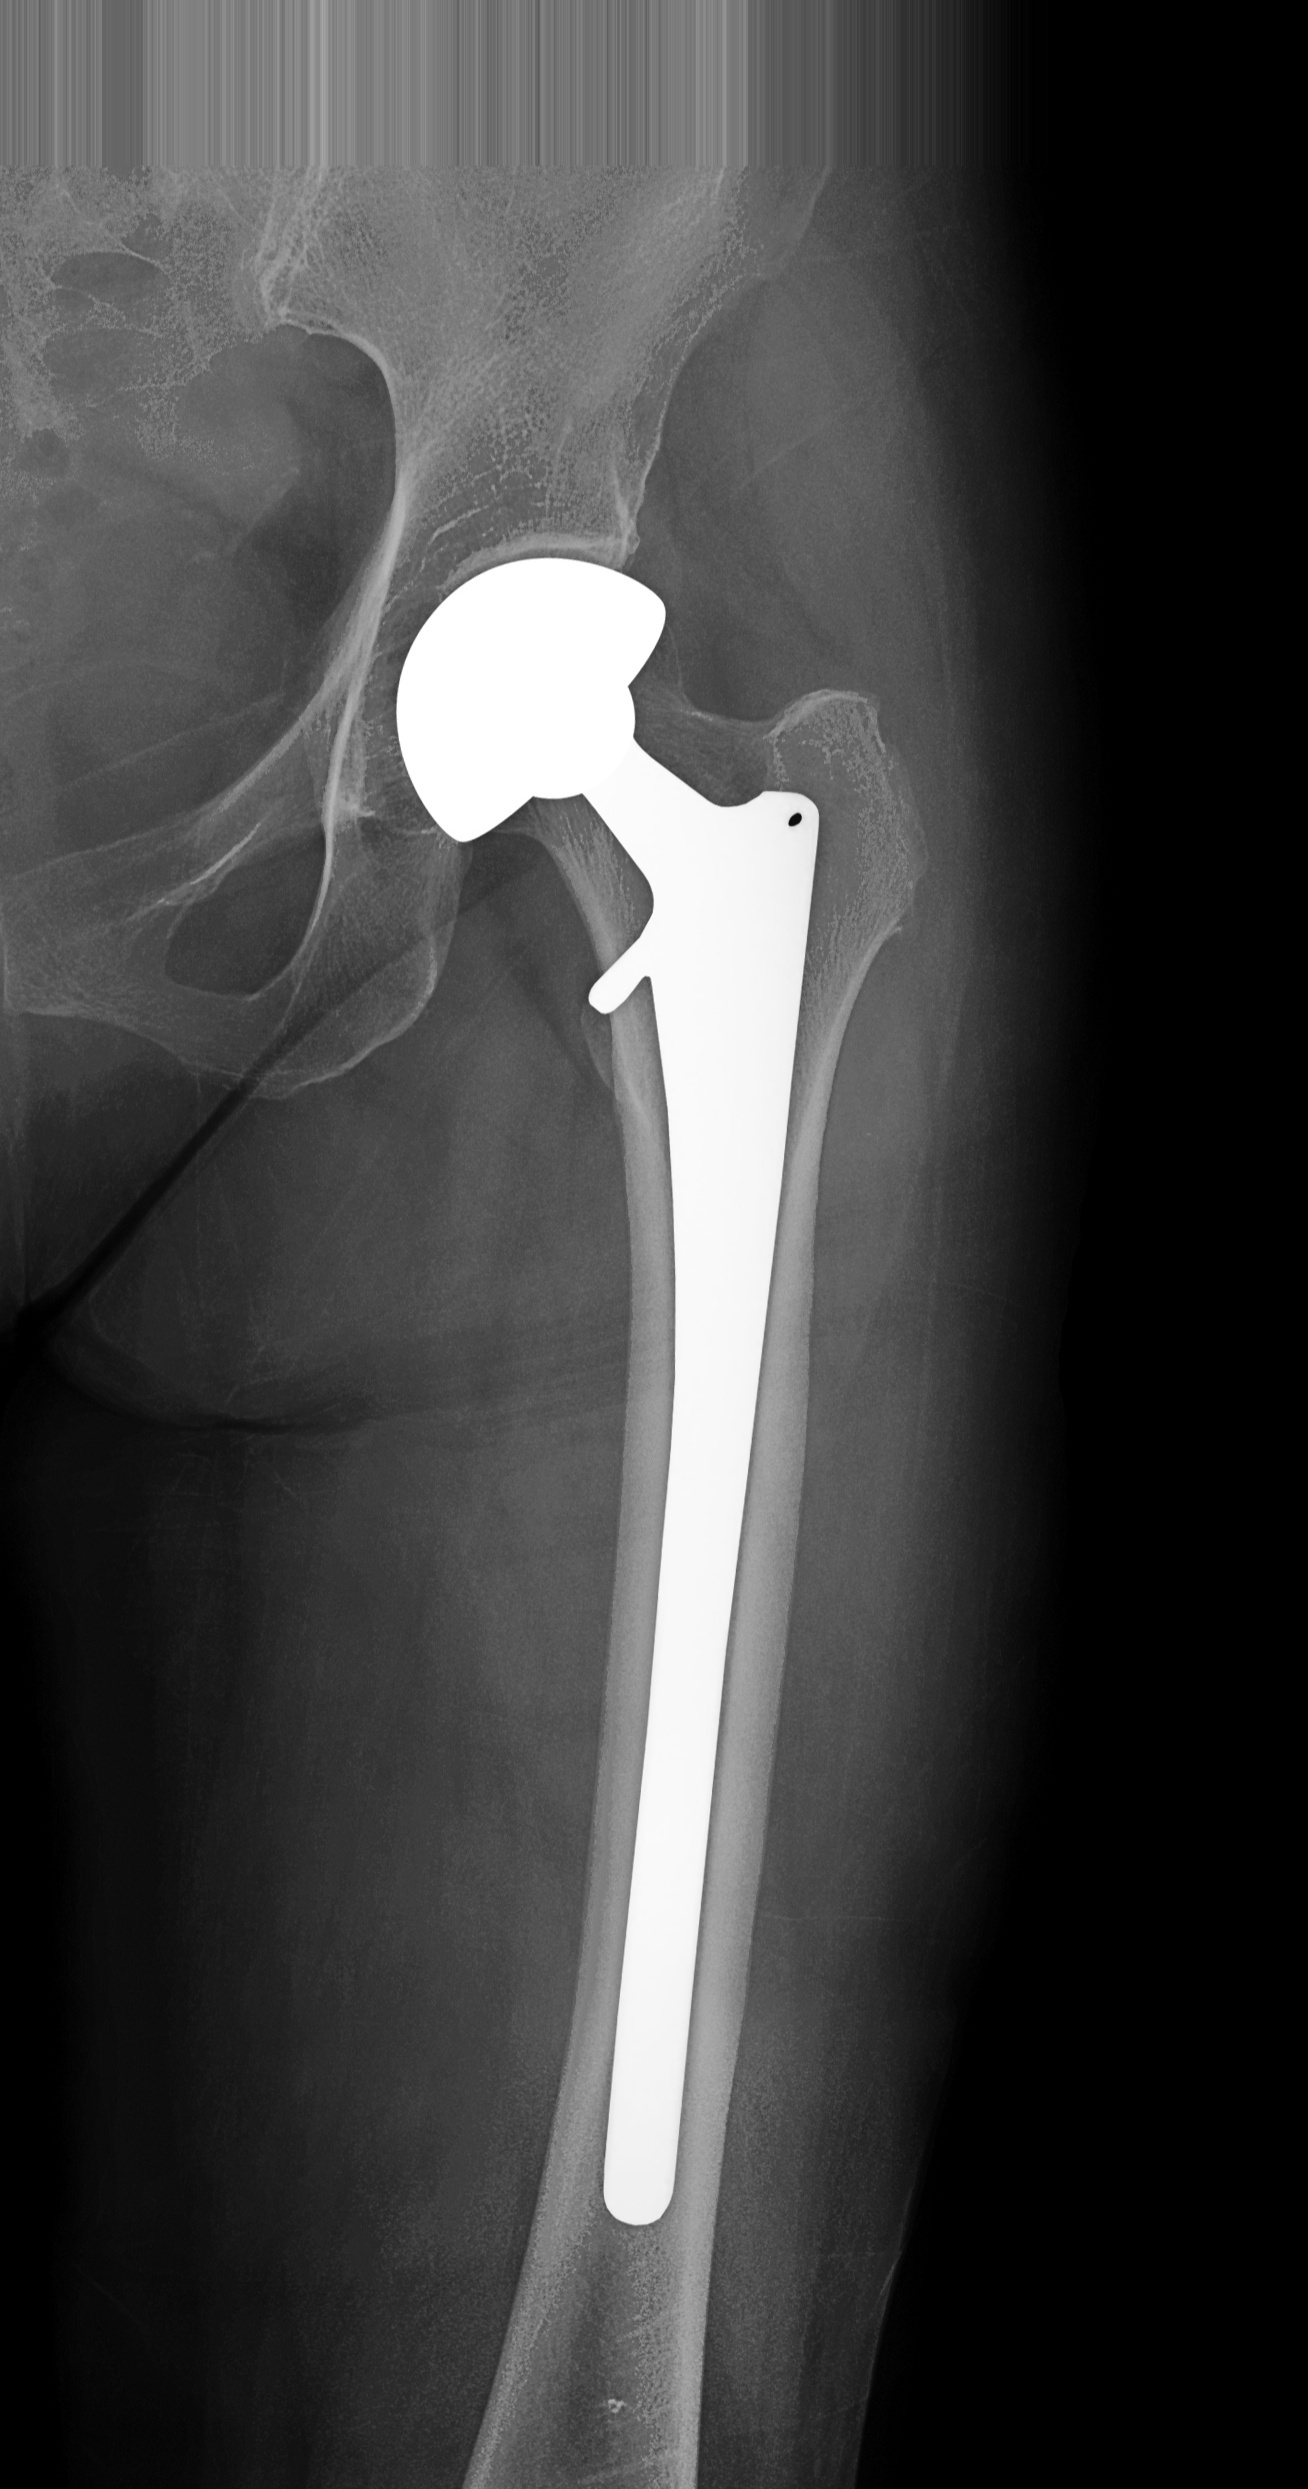Hip - Bias - Zimmer: (367, 515, 880, 2346)
